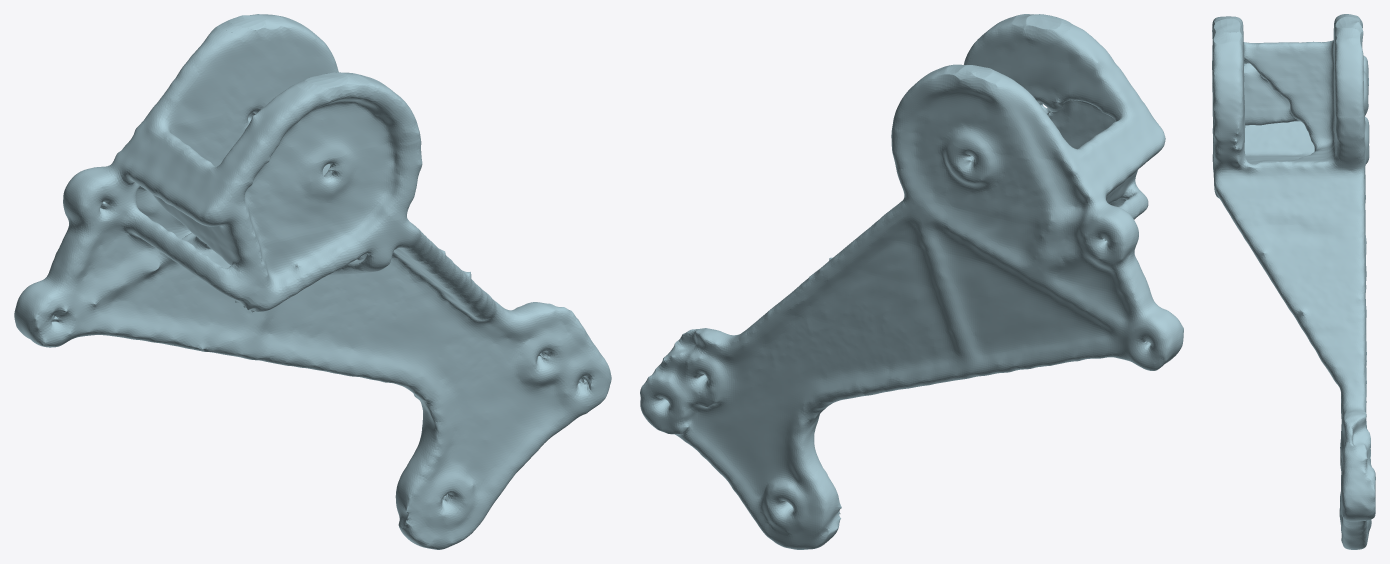
File: daratech.glb
3 views of the same model, side by side, from view 1: azimuth 30°, elevation 25°; view 2: azimuth 150°, elevation 25°; view 3: azimuth 270°, elevation 25° (orthographic). The views are drawn at different scales.
Parts seen in each view (by area): view 1: daratech_ours.obj; view 2: daratech_ours.obj; view 3: daratech_ours.obj.
Part boxes in pixels (x1,y1,x2,y2): daratech_ours.obj: (14,14,611,549); daratech_ours.obj: (640,14,1183,549); daratech_ours.obj: (1212,14,1375,549).
Size of the model in its own units: 1 by 0.9383 by 0.3101.
